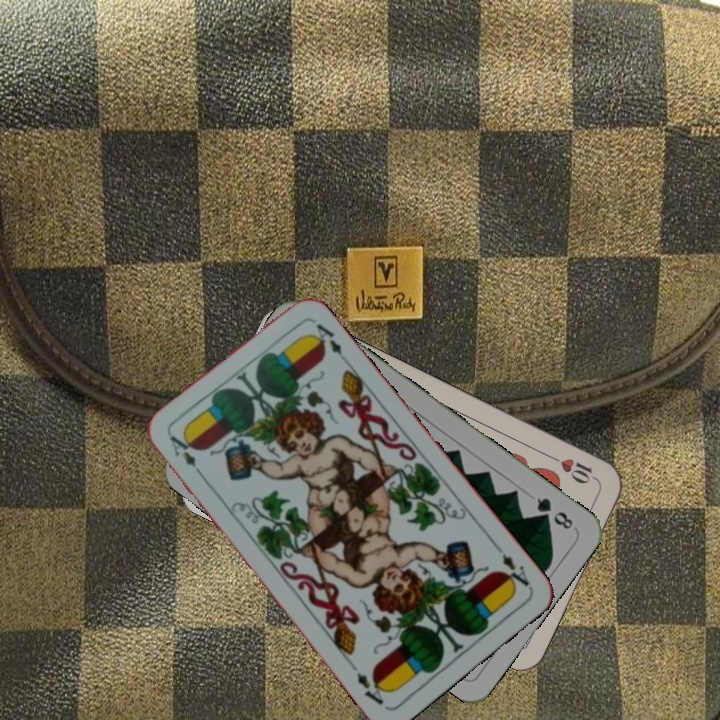EA: (165, 431, 208, 481), (491, 541, 532, 592)
G8: (532, 493, 576, 532)
H10: (545, 451, 601, 487)
